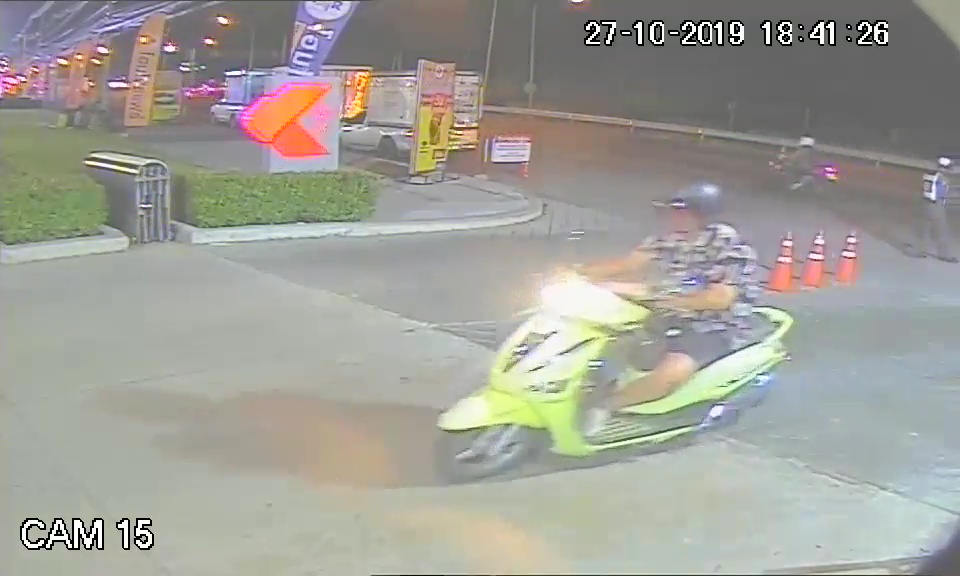motorcycle: (434, 269, 790, 488)
